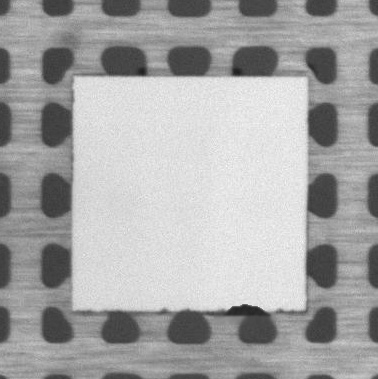DIE_BROKEN: (219, 303, 270, 316)
